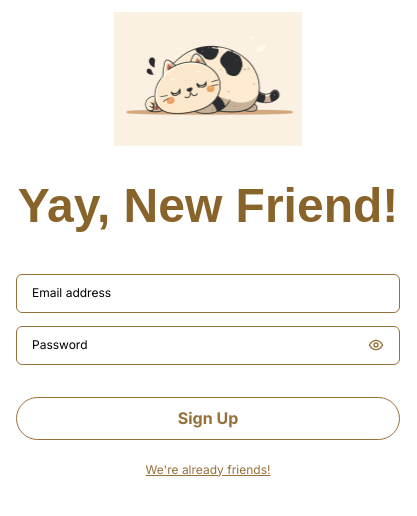
Test: RegisterPage › shows email validation error for invalid email
Type "notanemail" into the field labelled "Email address". click: (208, 293)
box: 32,284 -> 384,302
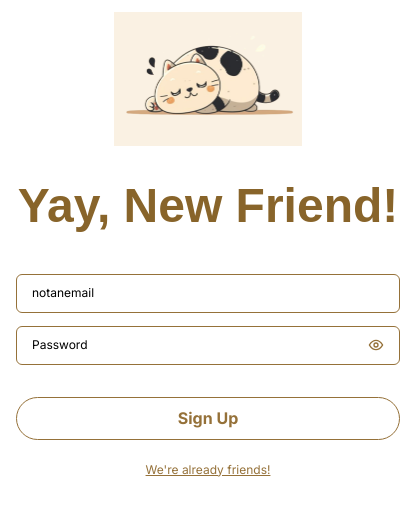
Type "validpassword123" into the password field labelled "Password". click: (196, 345)
box: 32,336 -> 360,354
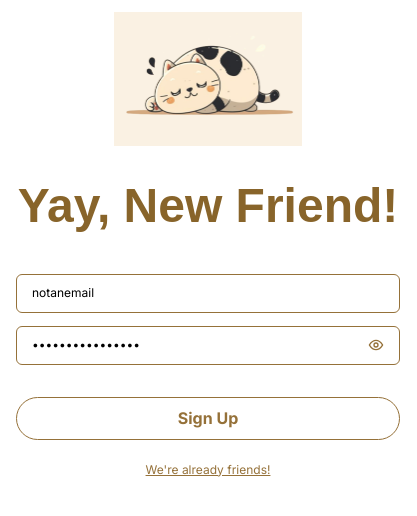
Click the button "Sign Up". click: (208, 418)
box: 16,397 -> 400,440
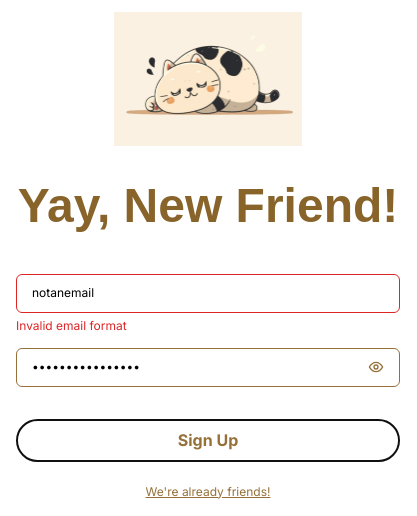
Expected: the text "Invalid email format" is shown, 16,317 -> 127,335
